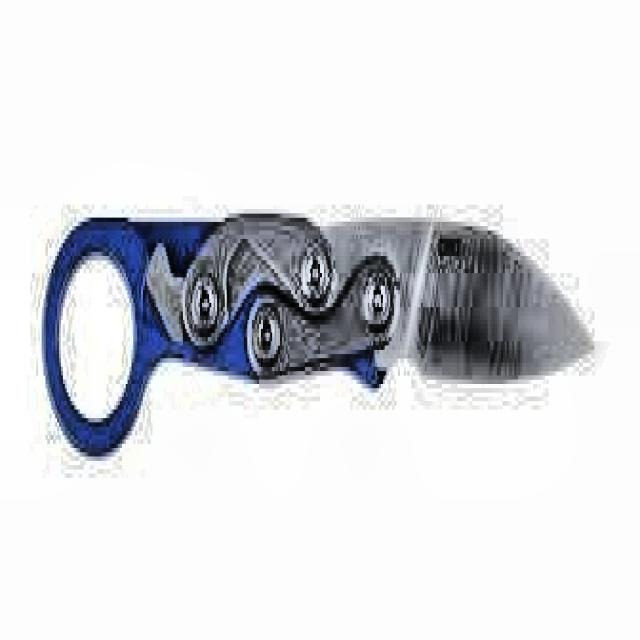knife: (43, 216, 593, 461)
